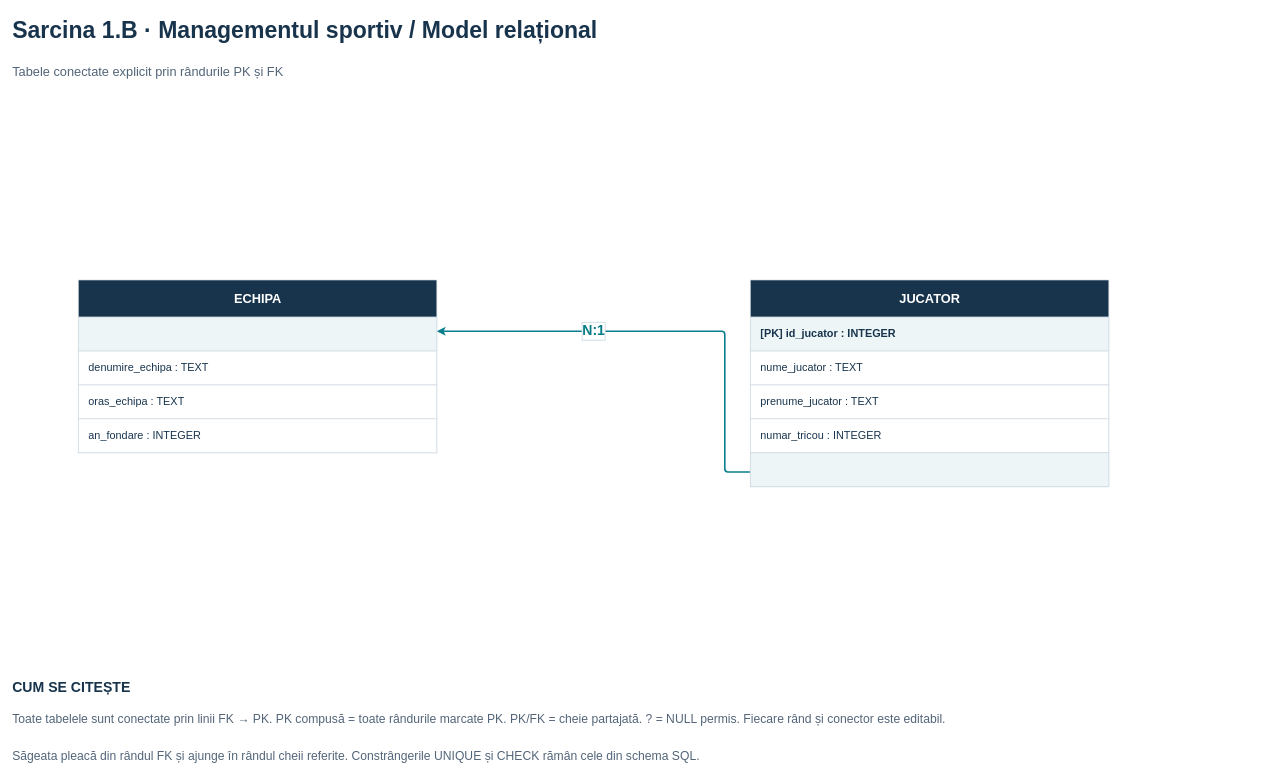
This 1283x782 diagram has some shape labels left out. Each missing label, with the centre of its shape:
[FK] id_echipa : INTEGER → ECHIPA.id_echipa: the point at 929,469
[PK] id_echipa : INTEGER: the point at 257,333
